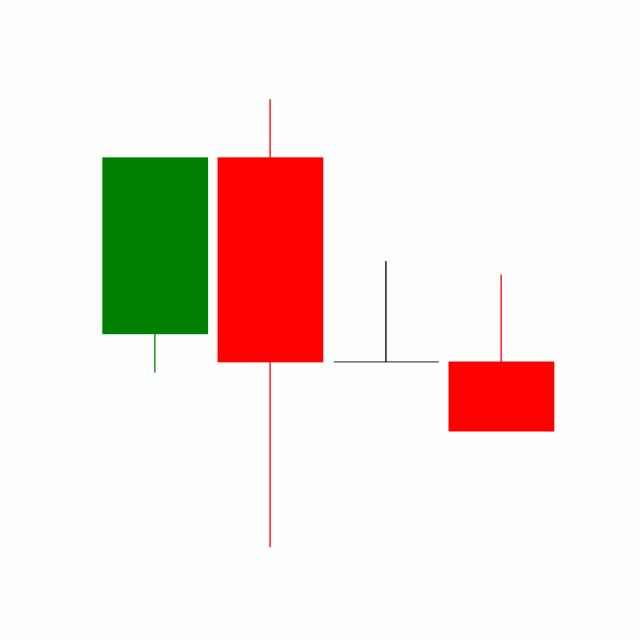Gravestone Doji: (328, 259, 444, 363)
